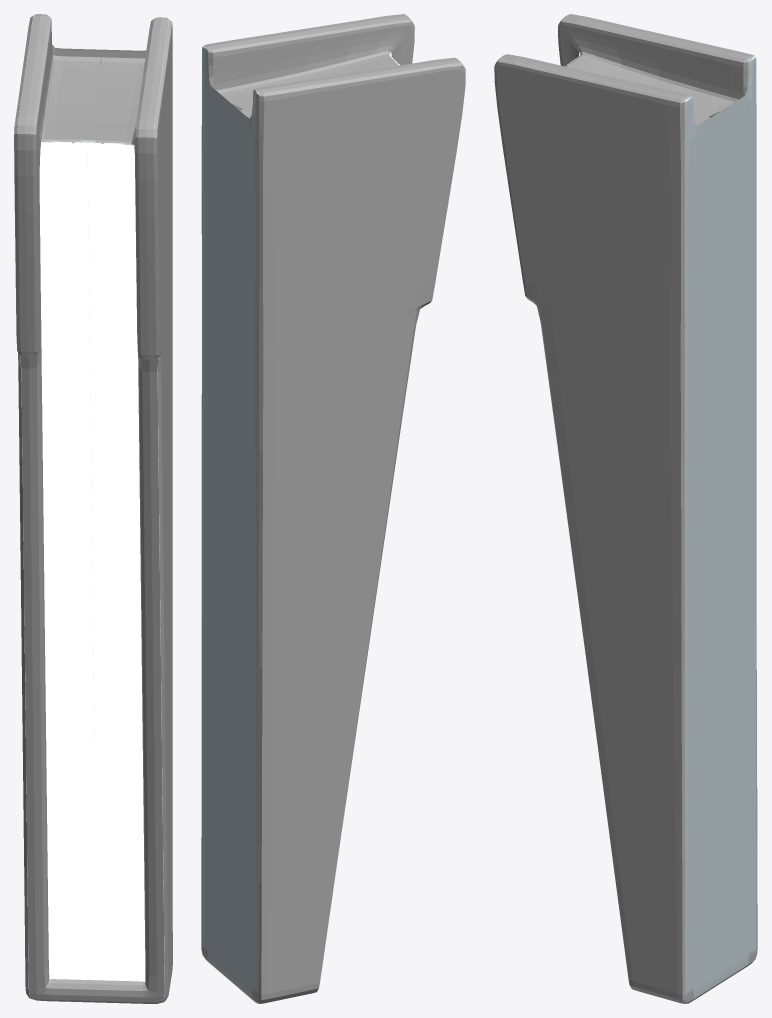
Rendered from walllight.glb.
3 views of the same model, side by side, from view 1: azimuth 30°, elevation 25°; view 2: azimuth 150°, elevation 25°; view 3: azimuth 270°, elevation 25° (orthographic). The views are drawn at different scales.
Visible parts, largest first — view 1: Wall Light.063; view 2: Wall Light.063; view 3: Wall Light.063.
Part boxes in pixels (x1=…): Wall Light.063: x1=14, y1=14, x2=172, y2=1003; Wall Light.063: x1=201, y1=14, x2=465, y2=1003; Wall Light.063: x1=494, y1=14, x2=757, y2=1003.
Bounding box in the file's own units: 7.18 × 30.16 × 7.94.
1 material, 1 textured.
